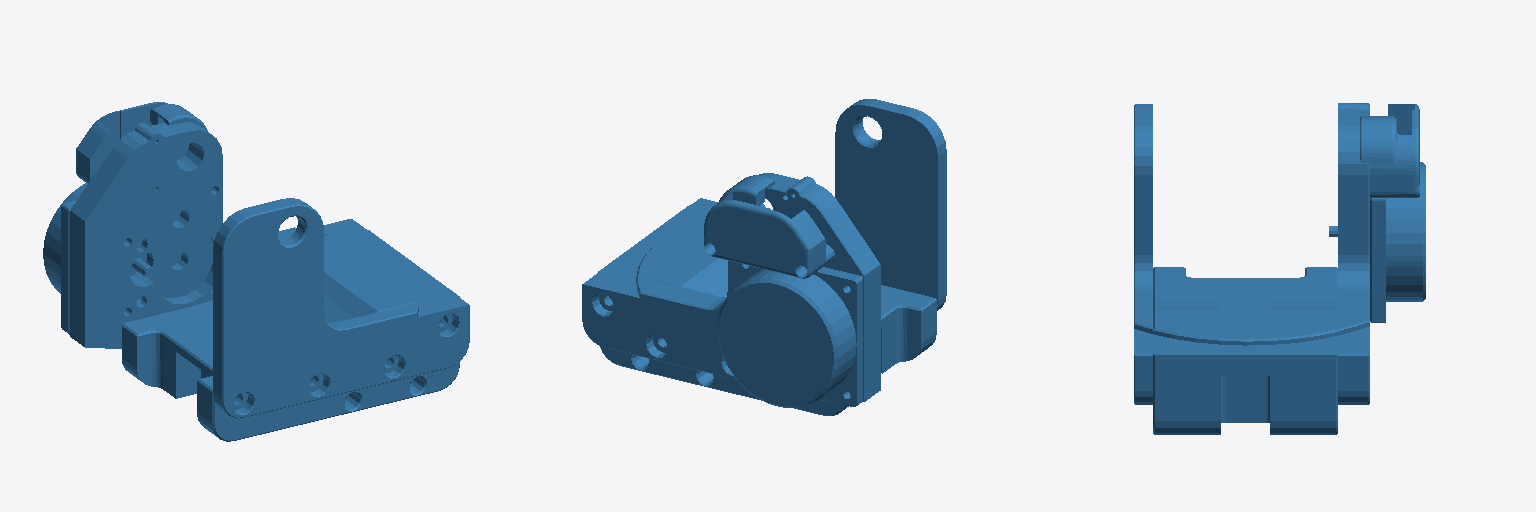
The model's file is vertical_translation_fol.OBJ.
3 views of the same model, side by side, from view 1: azimuth 30°, elevation 25°; view 2: azimuth 150°, elevation 25°; view 3: azimuth 270°, elevation 25° (orthographic).
Visible parts, largest first — view 1: /ambf/env/neuro_robot/vertical_translation_fol_vertical_translat; view 2: /ambf/env/neuro_robot/vertical_translation_fol_vertical_translat; view 3: /ambf/env/neuro_robot/vertical_translation_fol_vertical_translat.
Part boxes in pixels (bbox=[...]): /ambf/env/neuro_robot/vertical_translation_fol_vertical_translat: bbox=[43, 102, 469, 441]; /ambf/env/neuro_robot/vertical_translation_fol_vertical_translat: bbox=[582, 99, 946, 415]; /ambf/env/neuro_robot/vertical_translation_fol_vertical_translat: bbox=[1134, 103, 1425, 434].
Bounding box in the file's own units: 0.1314 × 0.1052 × 0.1171.